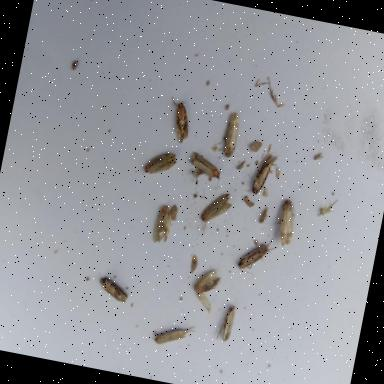pbw: (236, 232, 280, 282), (188, 266, 224, 314), (184, 150, 226, 190), (162, 95, 195, 145), (154, 319, 197, 351), (200, 187, 234, 226), (250, 150, 278, 197), (216, 109, 242, 159), (275, 198, 299, 248), (142, 148, 177, 181), (151, 201, 176, 247), (95, 274, 131, 304), (214, 301, 238, 344)
